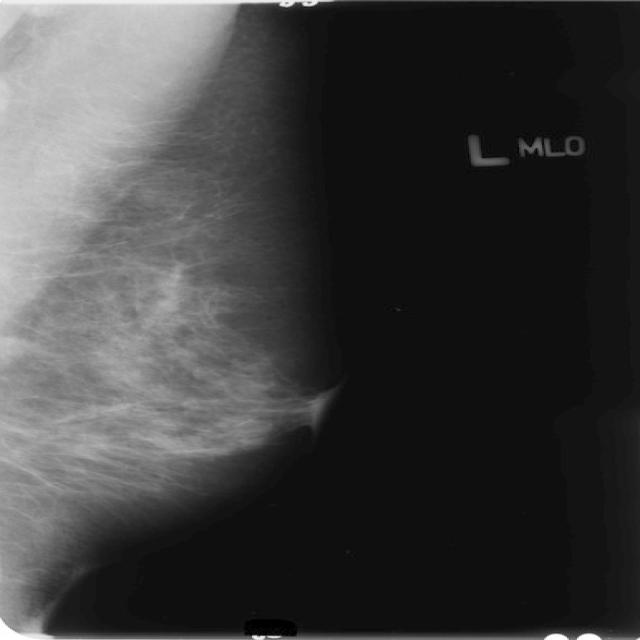tumour: (0, 335, 32, 366)
